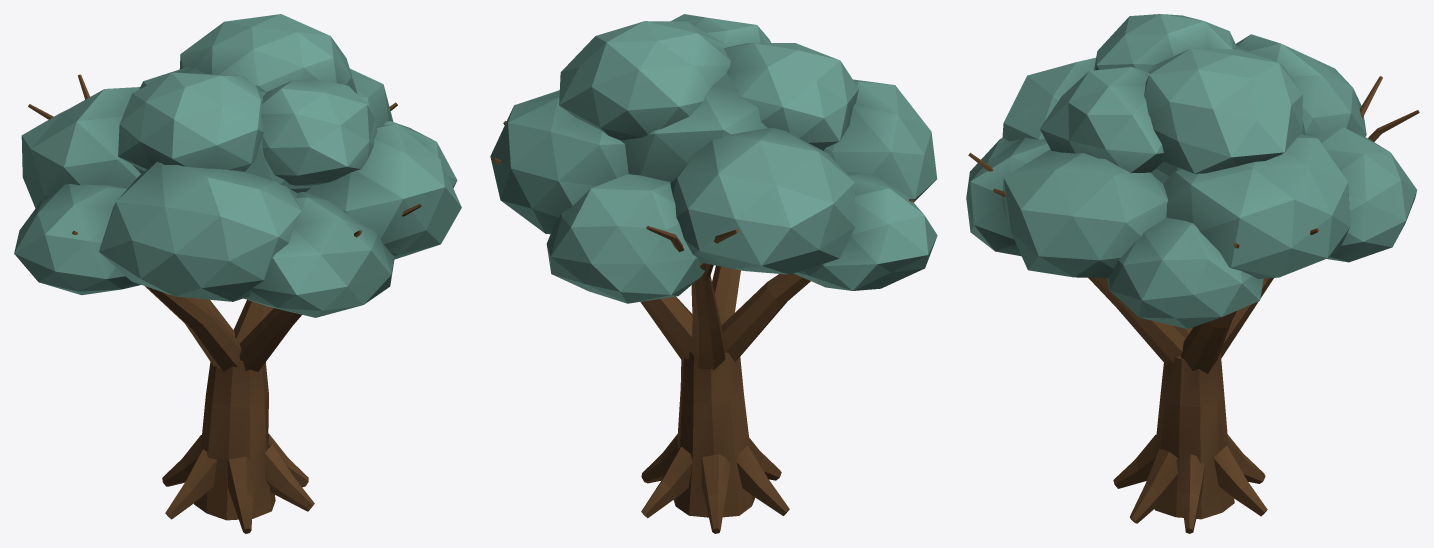
Rendered from tree_big_oak.glb.
The picture shows the model from 3 angles, left to right: view 1: azimuth 30°, elevation 25°; view 2: azimuth 150°, elevation 25°; view 3: azimuth 270°, elevation 25°; orthographic projection. The views are drawn at different scales.
Bounding box in the file's own units: 11.77 × 12.28 × 10.87.
